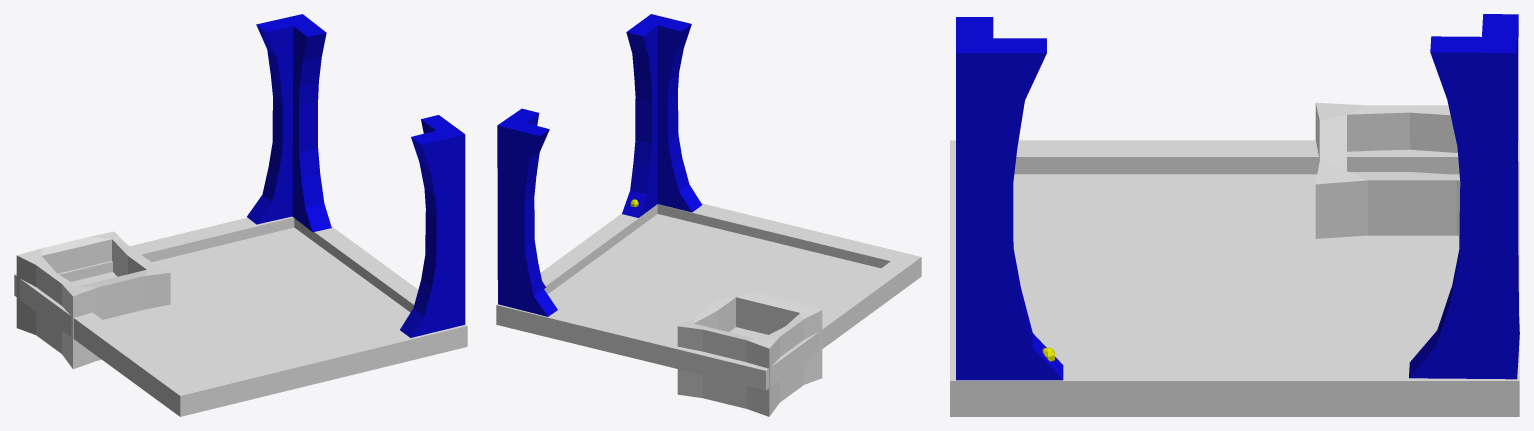
The model's file is ClawMachineBoxModel.fbx.
3 renders of one model, left to right at view 1: azimuth 30°, elevation 25°; view 2: azimuth 150°, elevation 25°; view 3: azimuth 270°, elevation 25°, orthographic. The views are drawn at different scales.
Parts seen in each view (by area): view 1: Cube.001, Cube.003, Cube, Cube.002; view 2: Cube.001, Cube, Cube.002, Cube.003; view 3: Cube.001, Cube.003, Cube.002, Cube.
Part boxes in pixels (x1=…): Cube.001: x1=14, y1=216, x2=467, y2=416; Cube.003: x1=247, y1=14, x2=331, y2=232; Cube: x1=16, y1=231, x2=170, y2=369; Cube.002: x1=400, y1=115, x2=465, y2=337; Cube.001: x1=496, y1=203, x2=921, y2=390; Cube: x1=677, y1=288, x2=822, y2=416; Cube.002: x1=622, y1=14, x2=701, y2=217; Cube.003: x1=497, y1=108, x2=557, y2=316; Cube.001: x1=950, y1=140, x2=1519, y2=416; Cube.003: x1=1409, y1=14, x2=1519, y2=379; Cube.002: x1=956, y1=17, x2=1063, y2=380; Cube: x1=1315, y1=102, x2=1460, y2=238.
Bounding box in the file's own units: 590 × 474 × 589.
